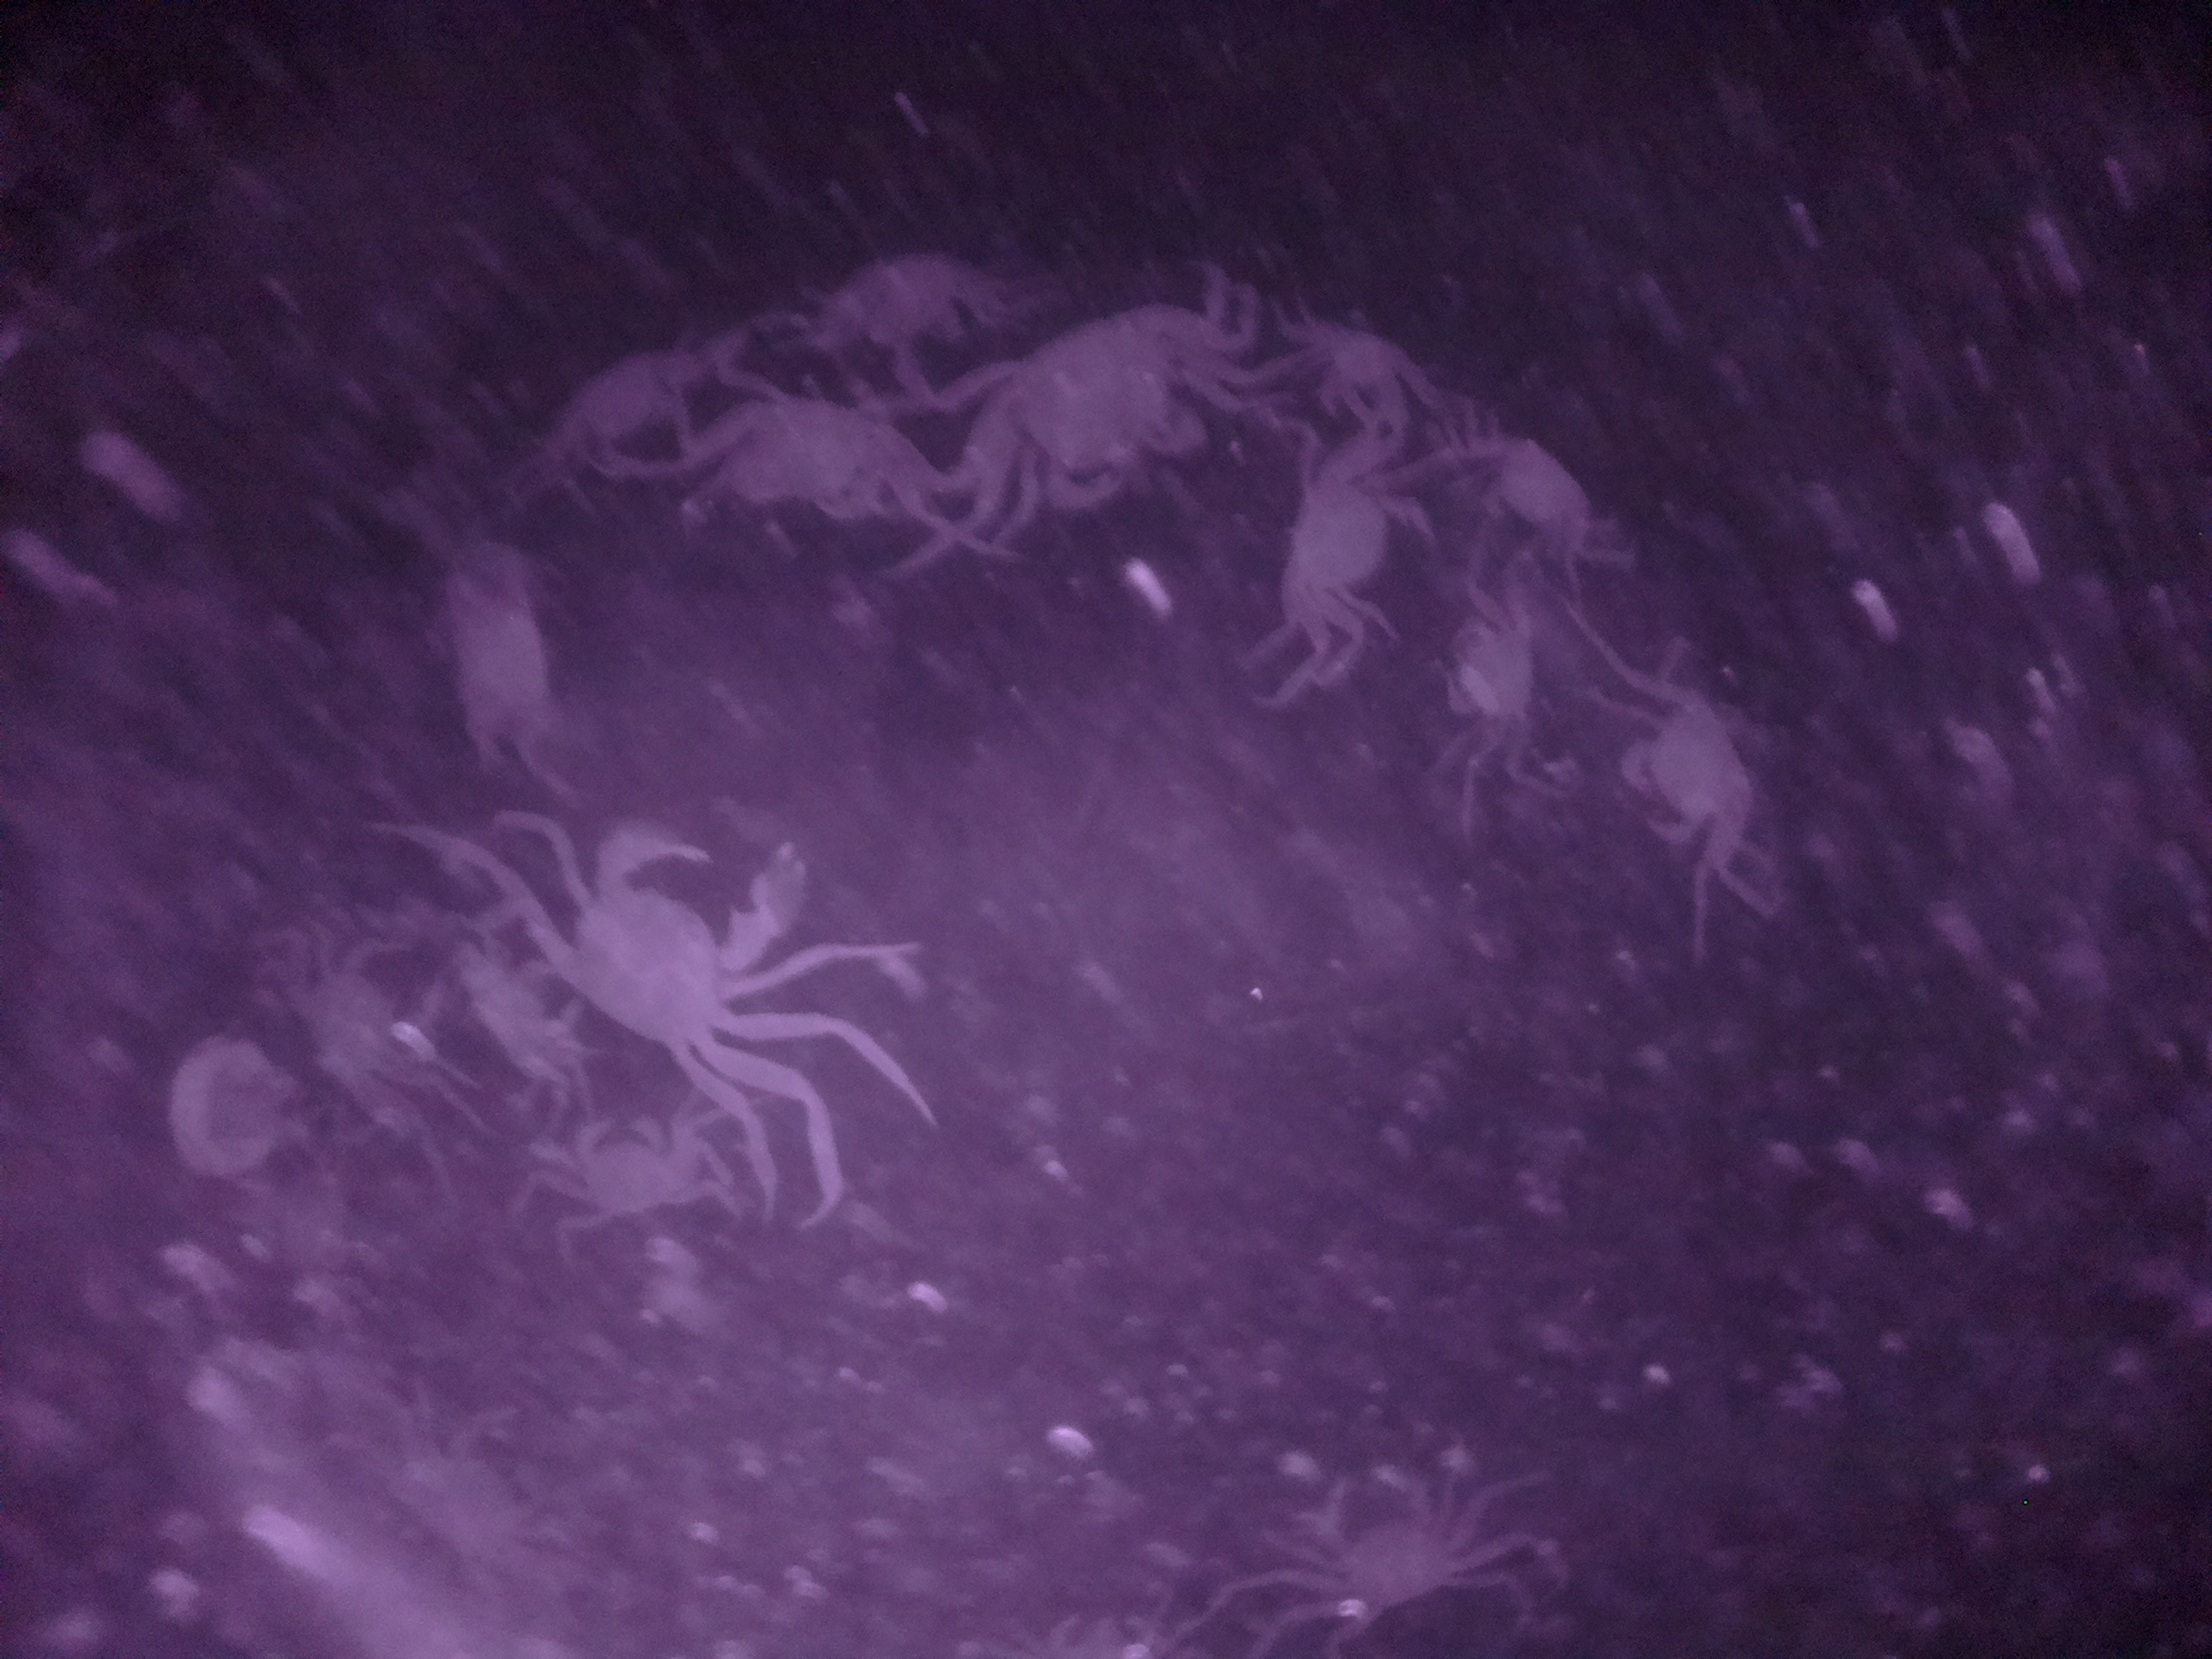Crab: (550, 795, 822, 1072), (970, 286, 1235, 523), (1261, 1441, 1517, 1633), (1266, 432, 1430, 647), (1611, 674, 1770, 877), (535, 1087, 712, 1234), (1433, 566, 1562, 755)
